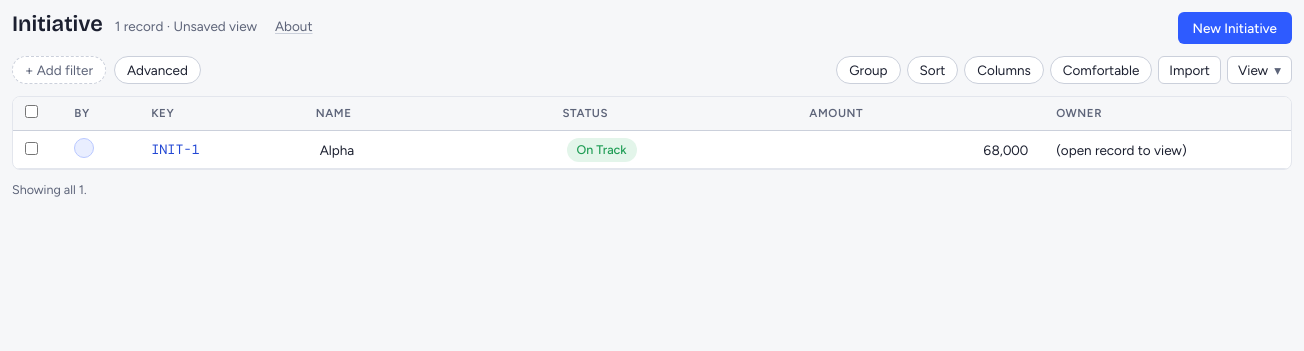
Test case: an incomplete condition issues no request — the chips › holds while an `in` list is empty
Expected: the button with aria-label "Edit Name for INIT-1" is shown, [316, 139, 538, 161]
Click the button "+ Add filter": click(59, 70) [13, 57, 105, 83]
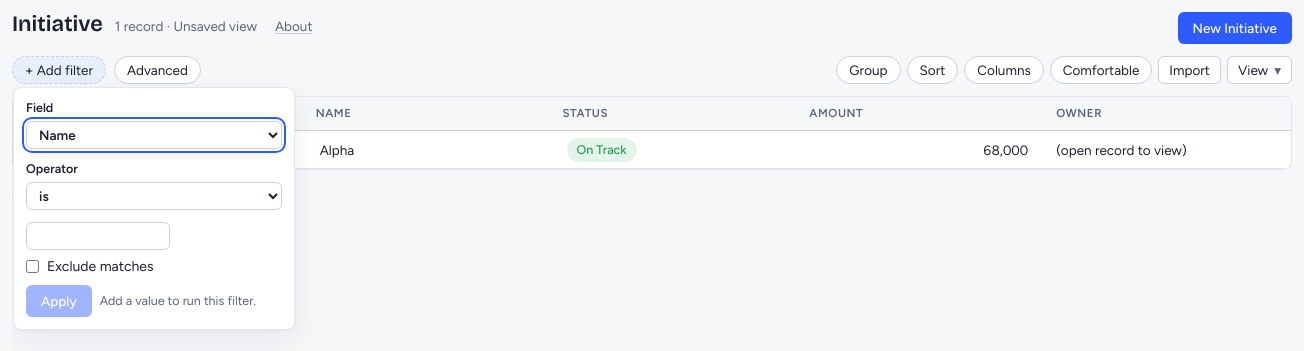
Select "Status" in the dropdown labelled "Field": (154, 135) [26, 121, 282, 149]
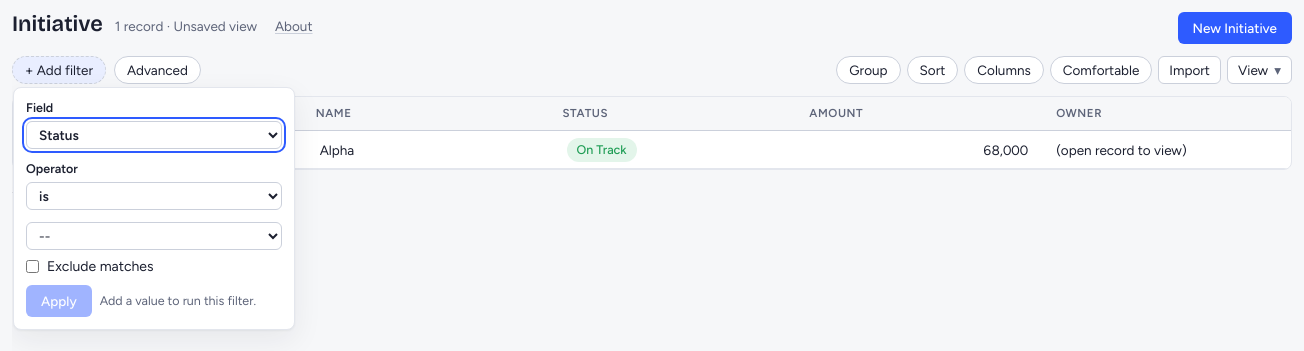
Select "is any of" in the dropdown labelled "Operator": (154, 196) [26, 182, 282, 210]
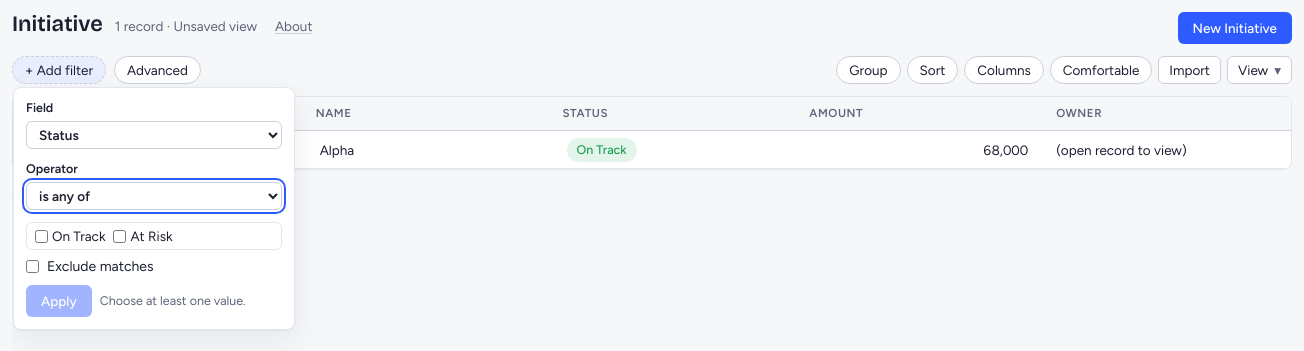
Click the checkbox labelled "On Track": click(42, 236) [35, 230, 48, 243]
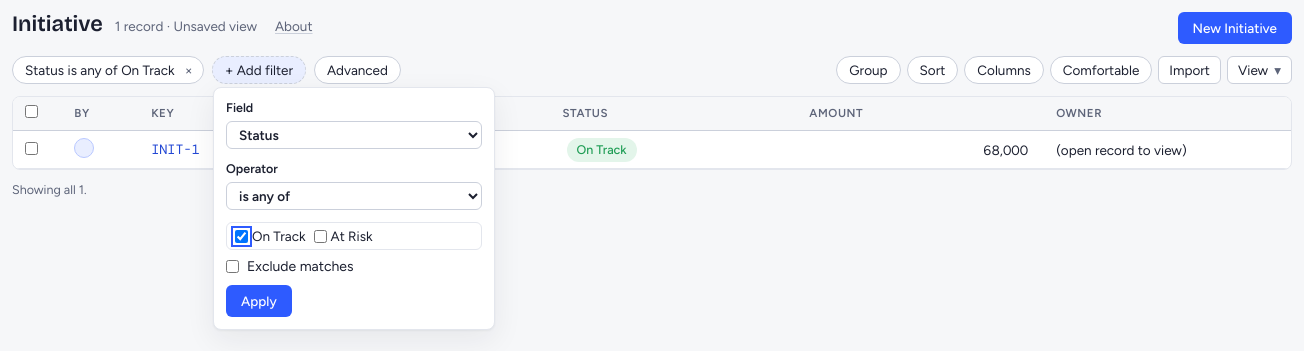
Click the checkbox labelled "On Track": click(242, 236) [235, 230, 248, 243]
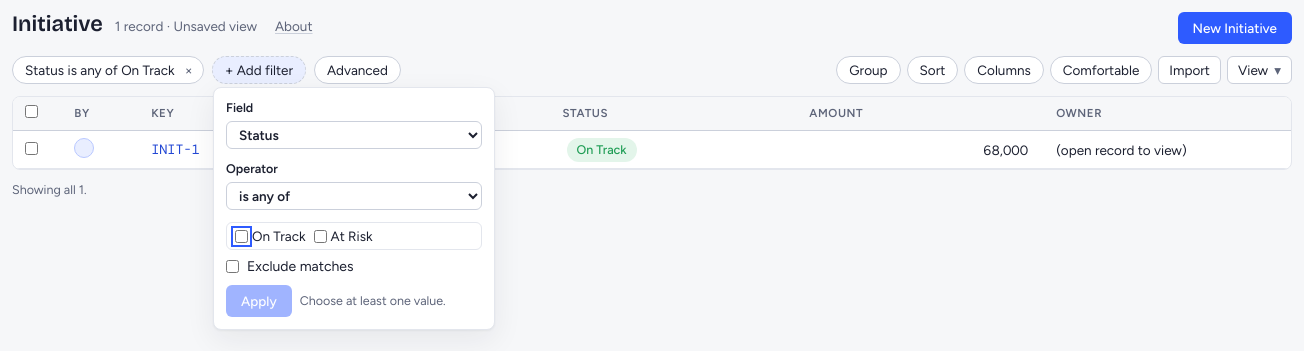
Press Escape
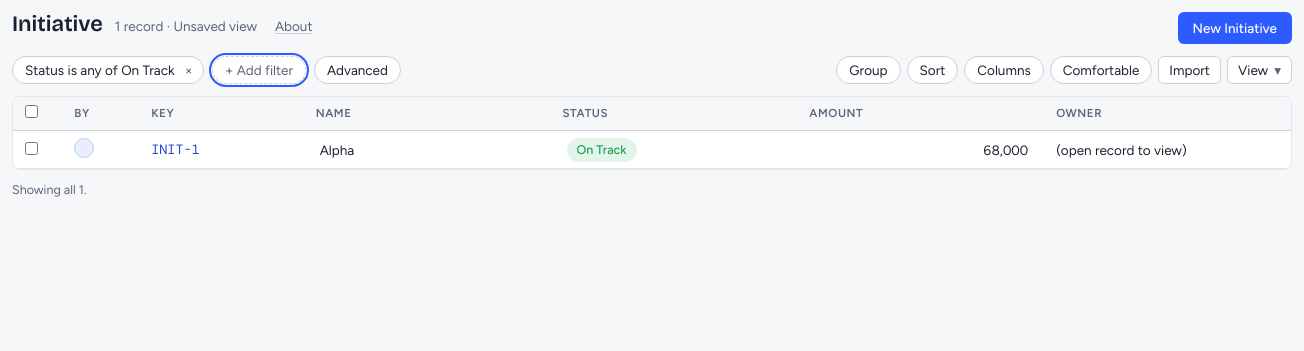
Result: the element with test id "condition-popover" is gone
